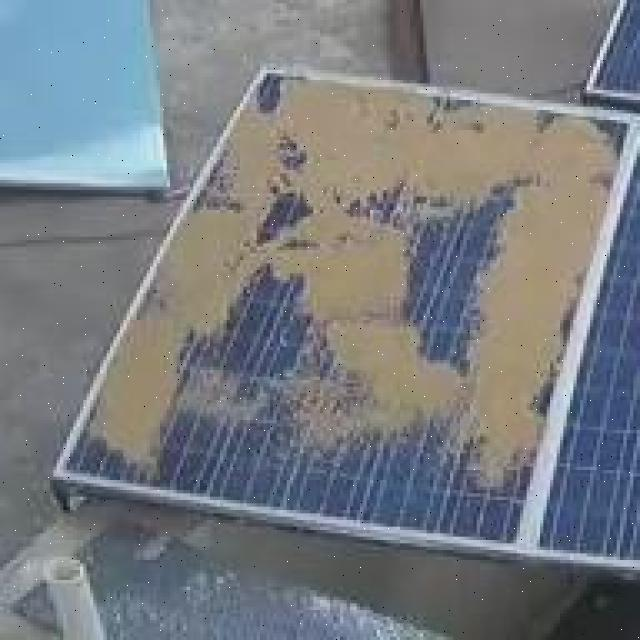Anomaly Solar Panel: (64, 0, 631, 594)
Surface Contaminant: (80, 19, 627, 565)
